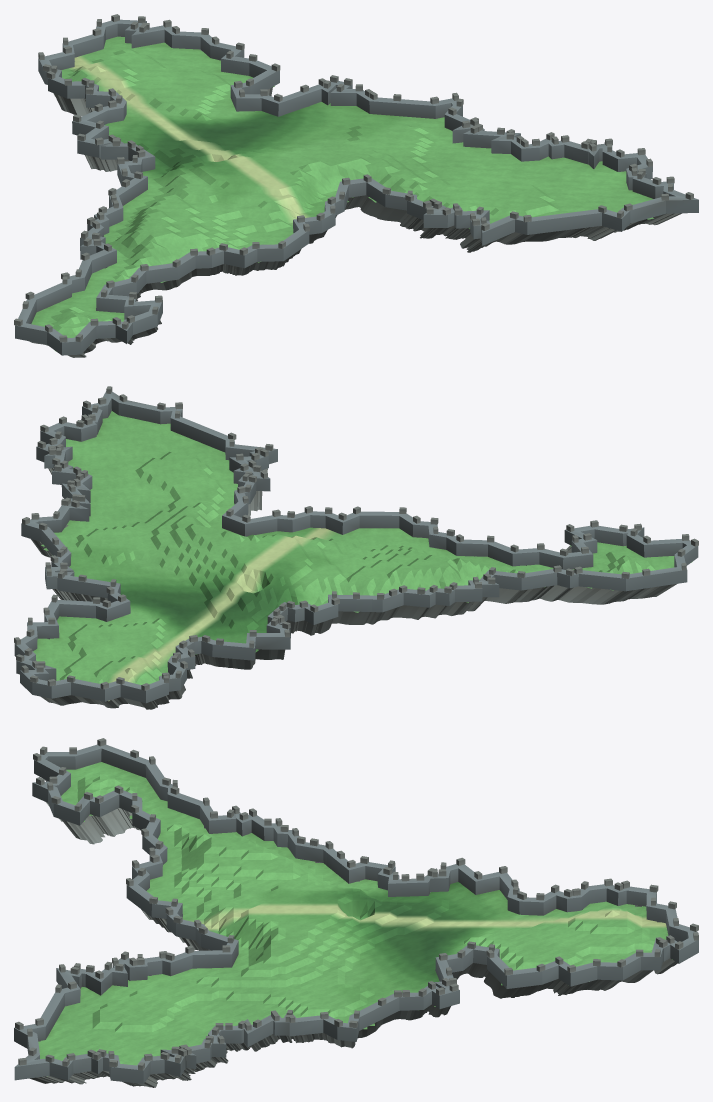
3 renders of one model, top to bottom at view 1: azimuth 30°, elevation 25°; view 2: azimuth 150°, elevation 25°; view 3: azimuth 270°, elevation 25°, orthographic. The views are drawn at different scales.
Parts seen in each view (by area): view 1: ground_40c06011; view 2: ground_40c06011; view 3: ground_40c06011.
Part boxes in pixels (x1,y1,x2,y2): ground_40c06011: [14, 14, 698, 357]; ground_40c06011: [14, 386, 698, 709]; ground_40c06011: [14, 738, 698, 1087].
Bounding box in the file's own units: 157 × 8.11 × 138.
Materials: 2 (1 with a texture image).
